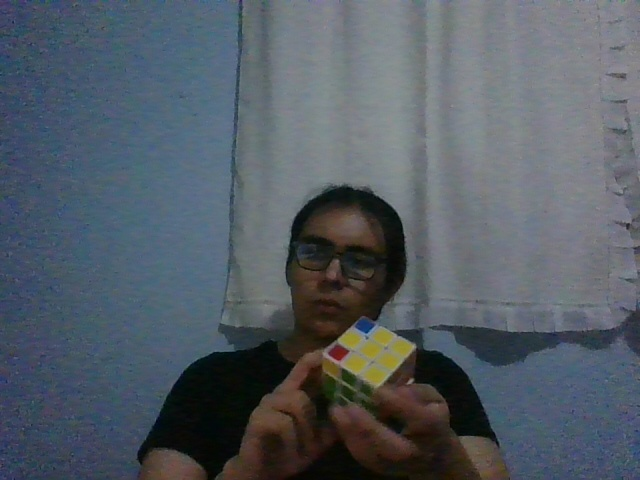rubik: (322, 316, 417, 422)
